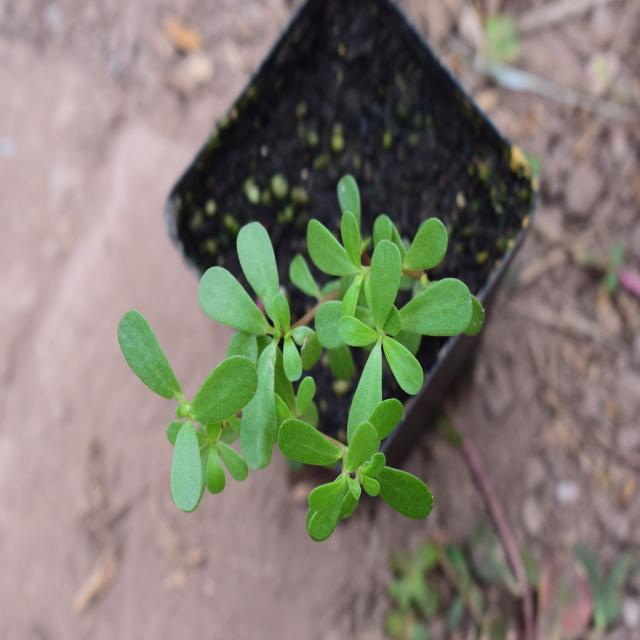purslane: (90, 182, 493, 554)
